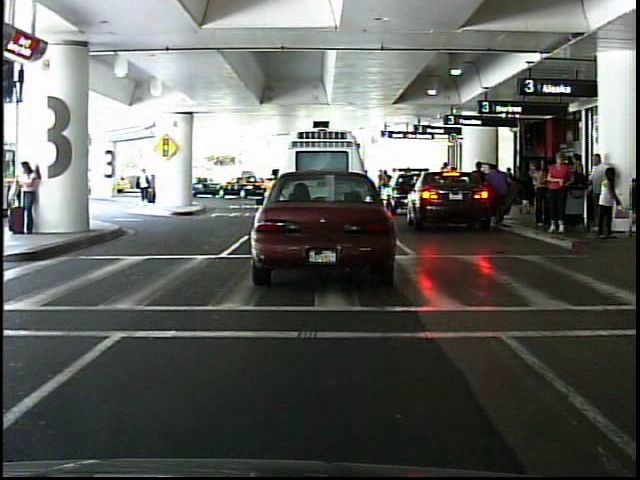person: (545, 149, 575, 238), (16, 159, 42, 236), (132, 162, 160, 208)
